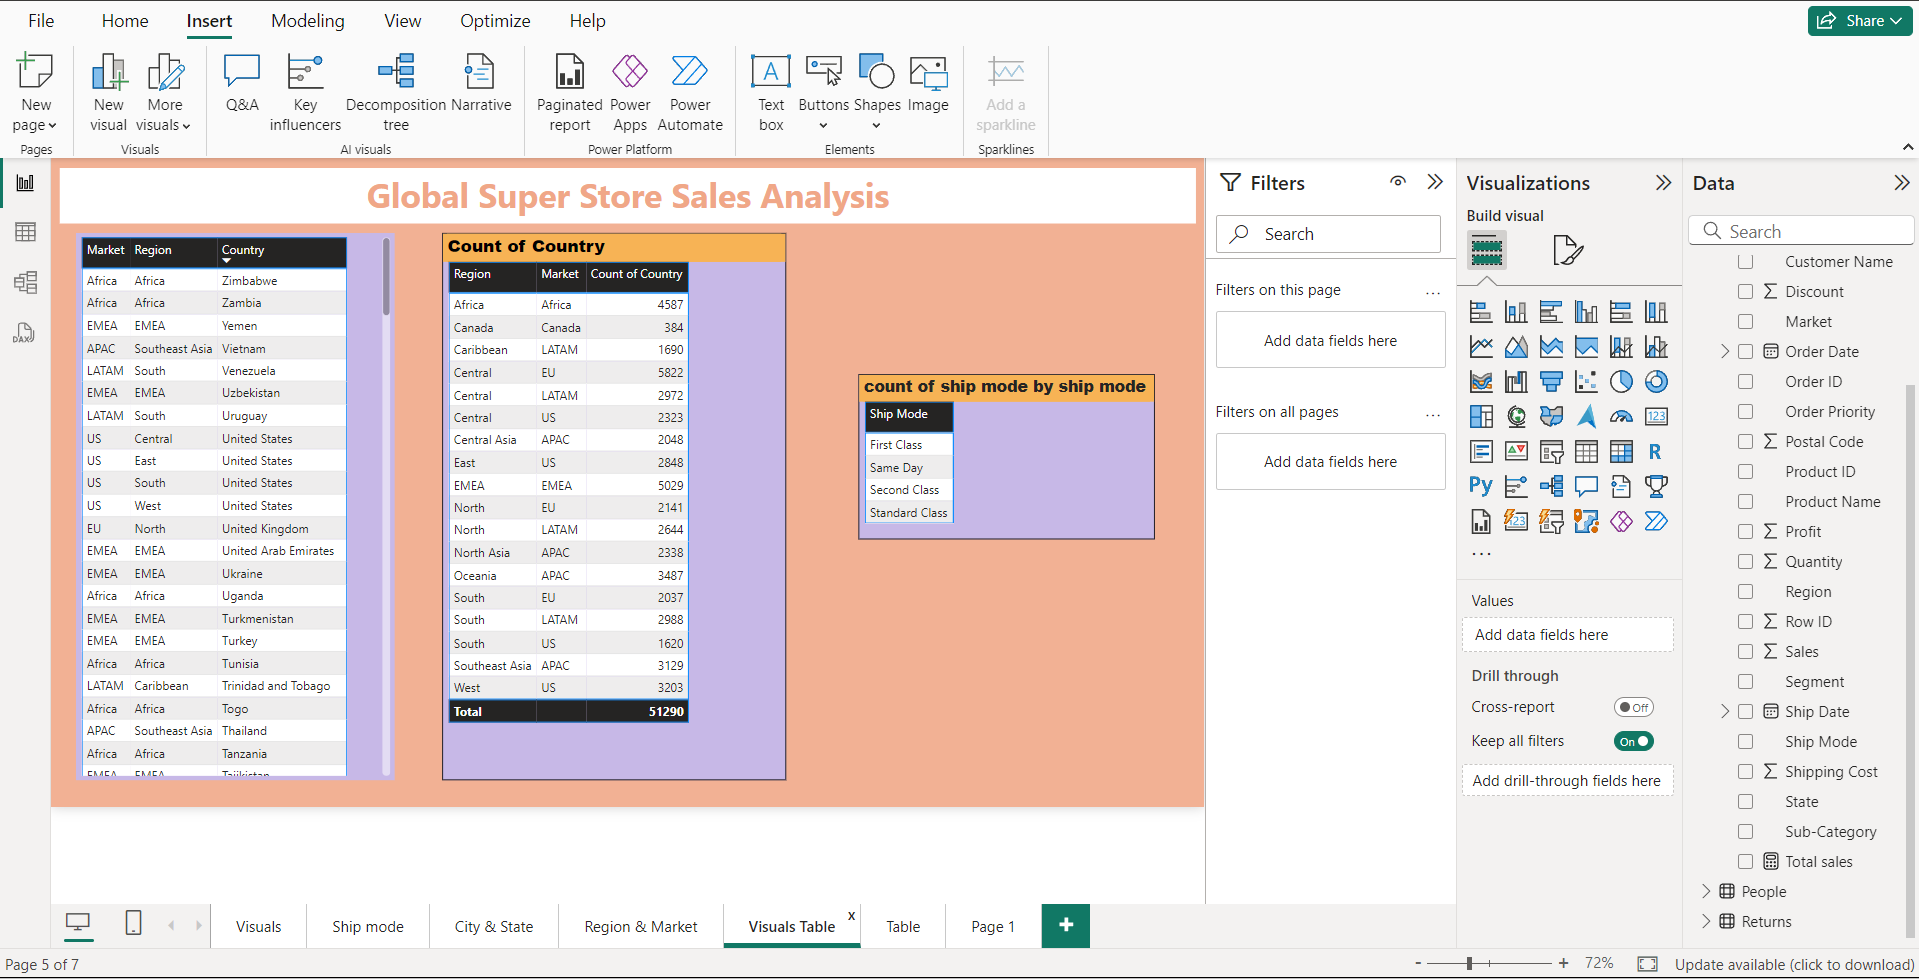

Layout of this report page (visuals, bound fields, positions):
{"tool":"powerbi","page":{"name":"Visuals  Table","canvas":[1280,720],"ordinal":4},"visuals":[{"type":"tableEx","title":"Count of Country","fields":{"Values":["Orders.Region","Orders.Market","CountNonNull(Orders.Country)"]},"box":[434.2,83.2,381.4,607.5],"z":3000},{"type":"textbox","box":[9.6,11,1261.1,61.7],"z":4000},{"type":"tableEx","fields":{"Values":["Orders.Market","Orders.Region","Orders.Country"]},"box":[27.7,83.2,353.7,607.5],"z":4001},{"type":"tableEx","title":"count of ship mode by ship mode","fields":{"Values":["Orders.Ship Mode"]},"box":[896.1,240,328.7,183.1],"z":4002}]}

Visuals, with their boxes on the page's 1280x720 design canvas (x1, y1, x2, y2). These are canvas units, not pixel positions in the 1919x979 screenshot, which may show the page scaled, cropped or inside an application window:
"Count of Country" tableEx: (434,83,816,691)
textbox: (10,11,1271,73)
tableEx - Orders.Market x Orders.Region: (28,83,381,691)
"count of ship mode by ship mode" tableEx: (896,240,1225,423)
